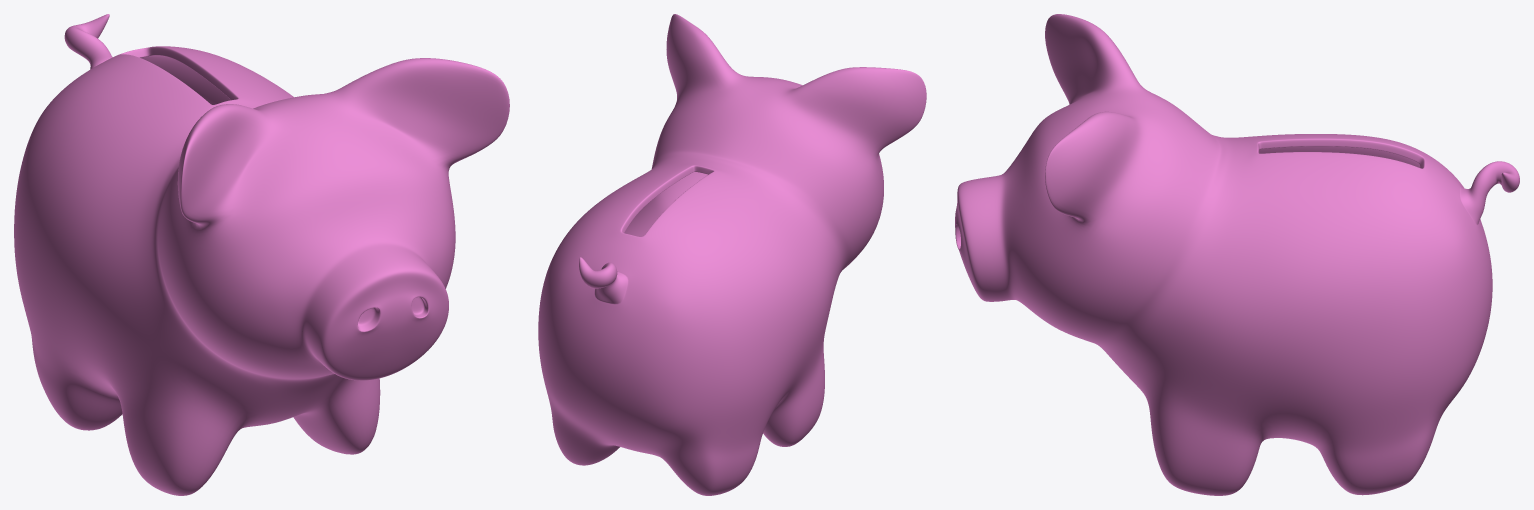
File: piggy bank blend swap.fbx
3 views of the same model, side by side, from view 1: azimuth 30°, elevation 25°; view 2: azimuth 150°, elevation 25°; view 3: azimuth 270°, elevation 25° (orthographic). The views are drawn at different scales.
Visible parts, largest first — view 1: PIG; view 2: PIG; view 3: PIG.
Part boxes in pixels (box(x1,y1,x2,y2)): PIG: box(14, 14, 509, 495); PIG: box(538, 14, 926, 495); PIG: box(955, 14, 1519, 495).
Bounding box in the file's own units: 919 × 1159 × 1538.
